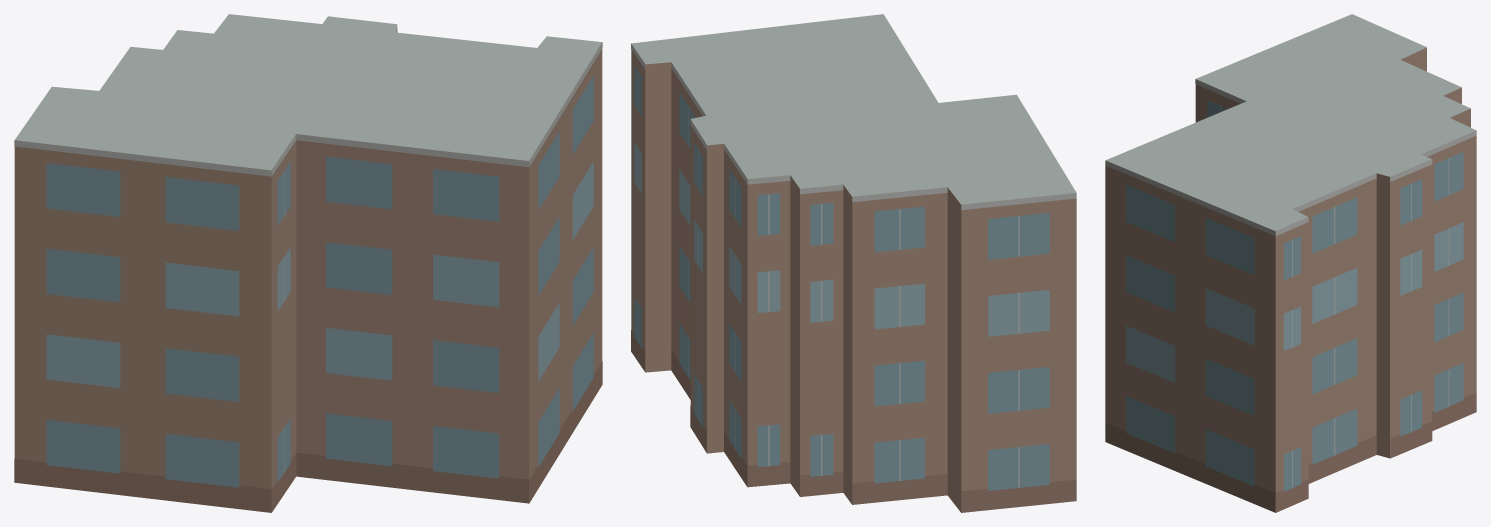
Rendered from survey-upis-32597801.glb.
The picture shows the model from 3 angles, left to right: view 1: azimuth 30°, elevation 25°; view 2: azimuth 150°, elevation 25°; view 3: azimuth 270°, elevation 25°; orthographic projection. The views are drawn at different scales.
Visible parts, largest first — view 1: survey-upis-32597801.tmp; view 2: survey-upis-32597801.tmp; view 3: survey-upis-32597801.tmp.
Boxes of the visible parts, x1,y1,x2,y2 form: survey-upis-32597801.tmp: (14,14,602,512); survey-upis-32597801.tmp: (631,14,1076,512); survey-upis-32597801.tmp: (1105,14,1476,512).
Size of the model in its own units: 22.4 by 13.53 by 16.17.
